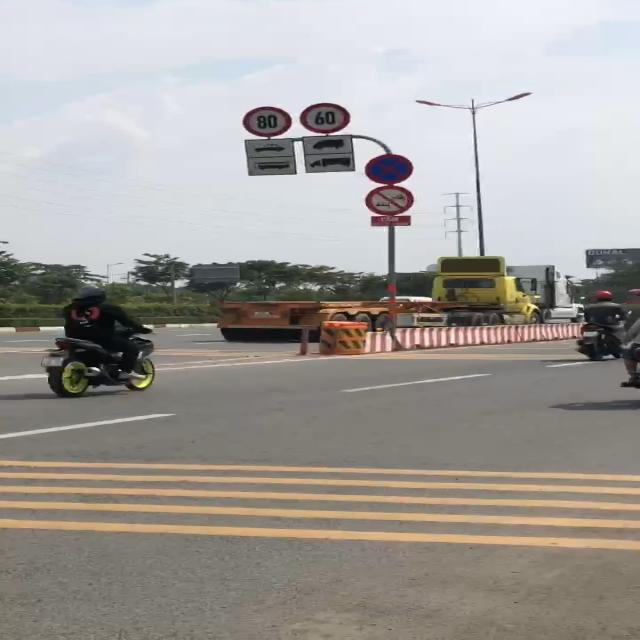Bien bao cam dung xe va do xe: (360, 152, 416, 186)
Bien bao toc do toi da cho phep: (297, 100, 353, 136), (242, 102, 294, 138)
